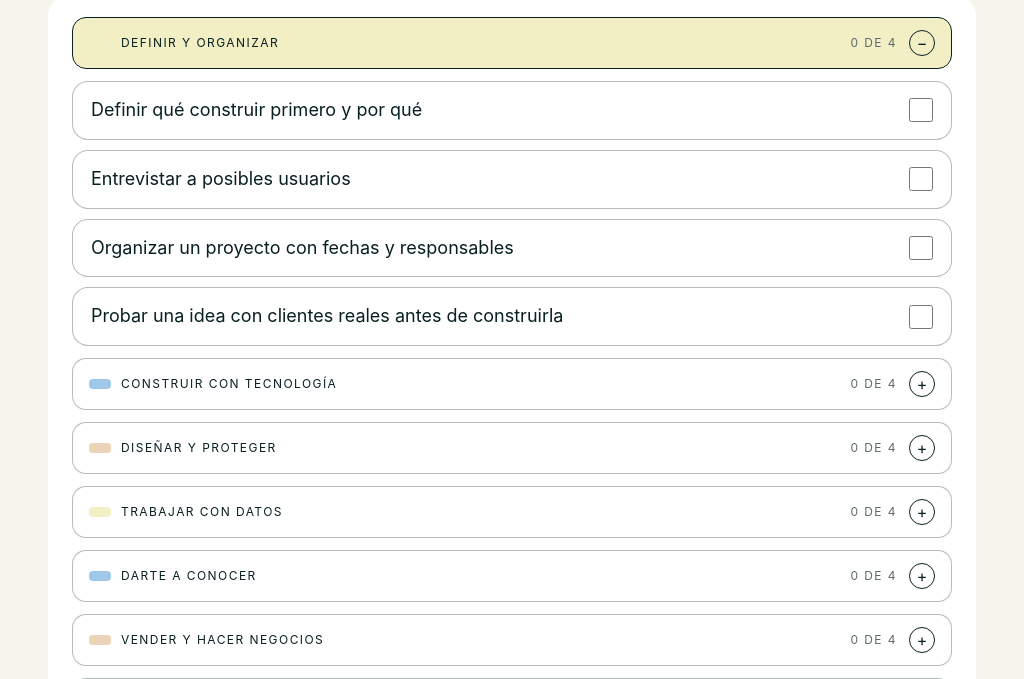
Test: TareasView › abrir otro grupo enseña sus tareas; cerrarlo y volverlo a abrir conserva lo marcado
The width and height of the screenshot is (1024, 679).
(page scrolled)
Click the button "Construir con tecnología 0 de 4 +": [229, 384] box [72,358,952,410]
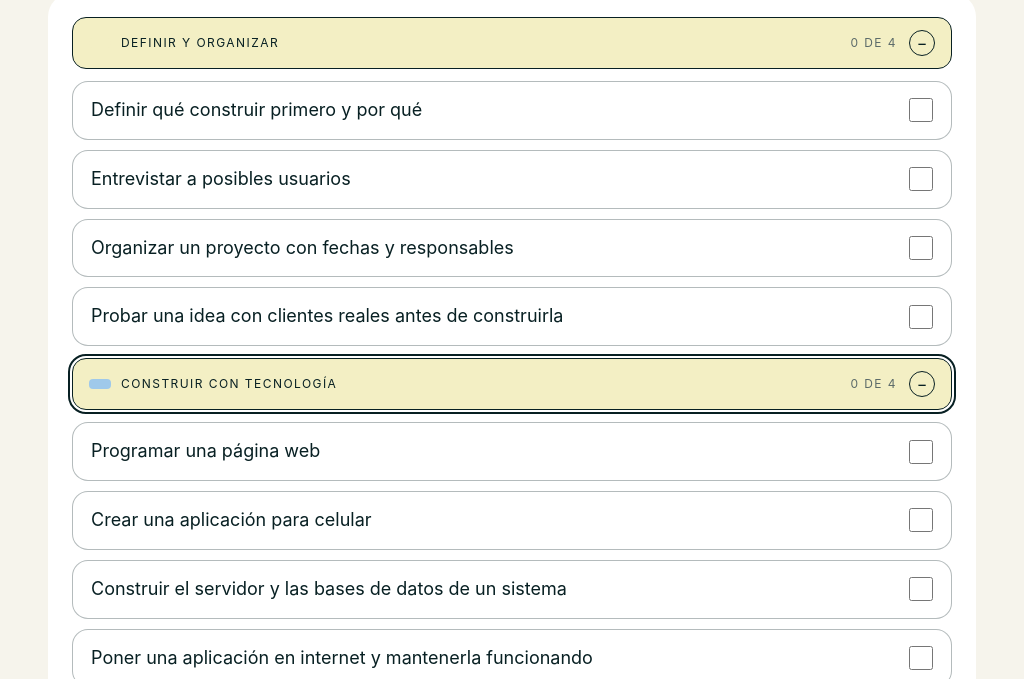
Check: the checkbox labelled "Programar una página web" is shown
Click the checkbox labelled "Programar una página web": [921, 452] box [909,440,933,464]
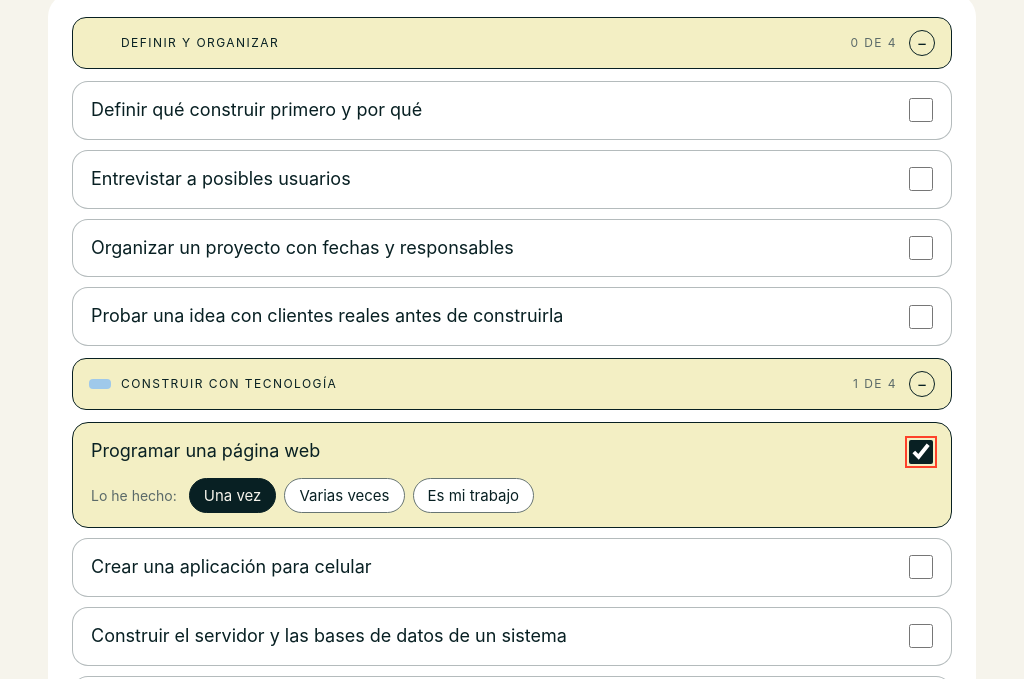
Click the button "Construir con tecnología 1 de 4 −": [229, 384] box [72,358,952,410]
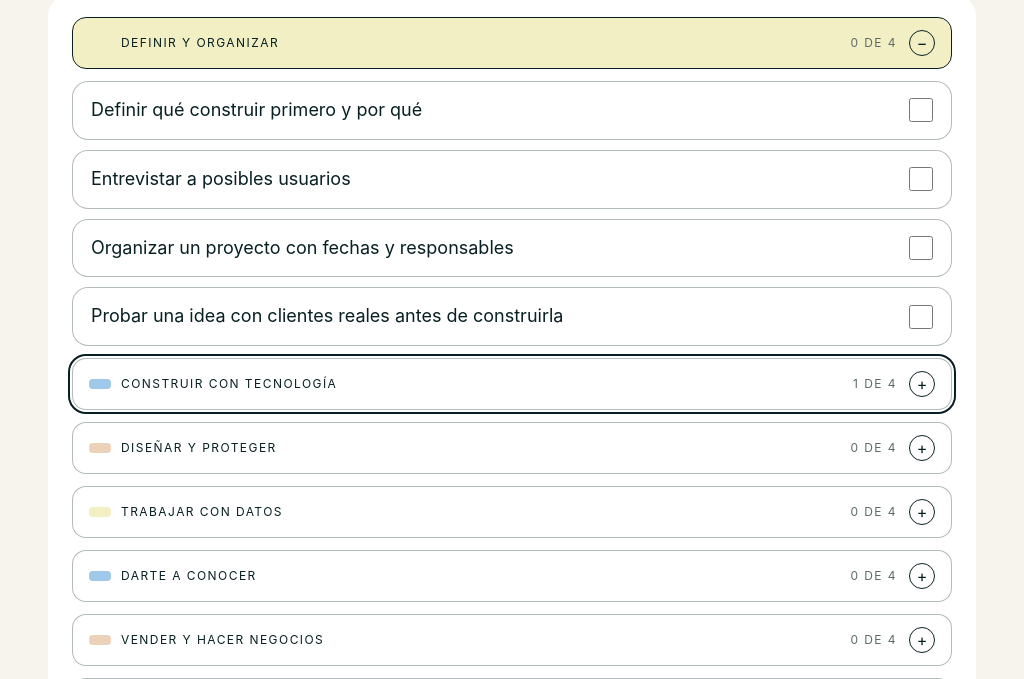
Check: the text "1 de 4" is shown, box [853,376,897,392]
Check: the text "Programar una página web" is gone
Click the button "Construir con tecnología 1 de 4 +": [229, 384] box [72,358,952,410]
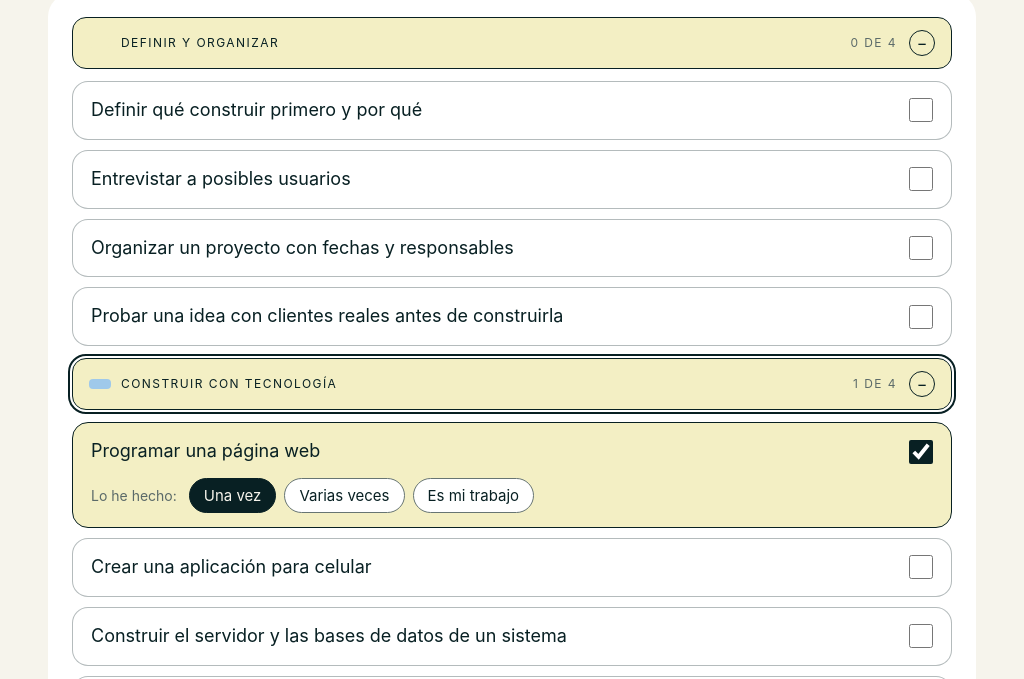
Check: the checkbox labelled "Programar una página web" is checked, box [909,440,933,464]
